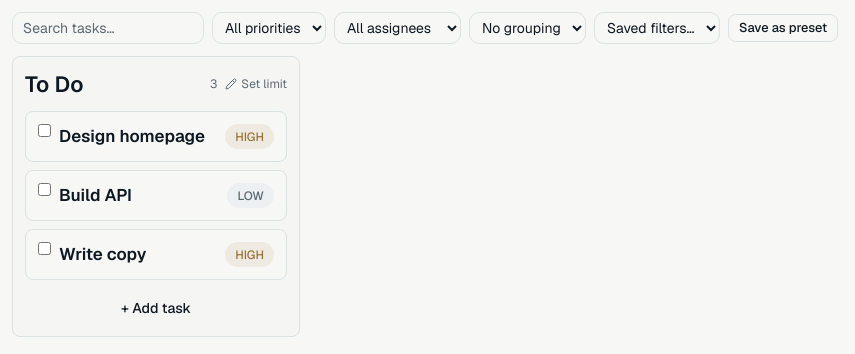
Test case: KanbanBoard filters › filters tasks by search text
Type "design" into the search field labelled "Search tasks". click: (108, 28)
box: x1=12 y1=12 x2=204 y2=44
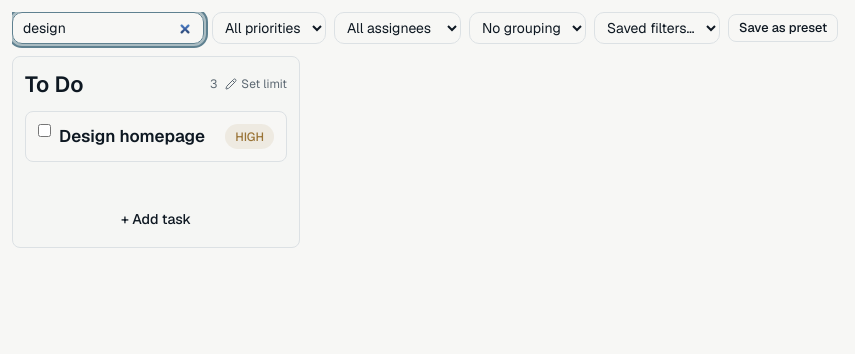
Expected: the heading "Design homepage" is shown, x1=59 y1=124 x2=205 y2=149
Expected: the heading "Build API" is gone
Expected: the heading "Write copy" is gone
